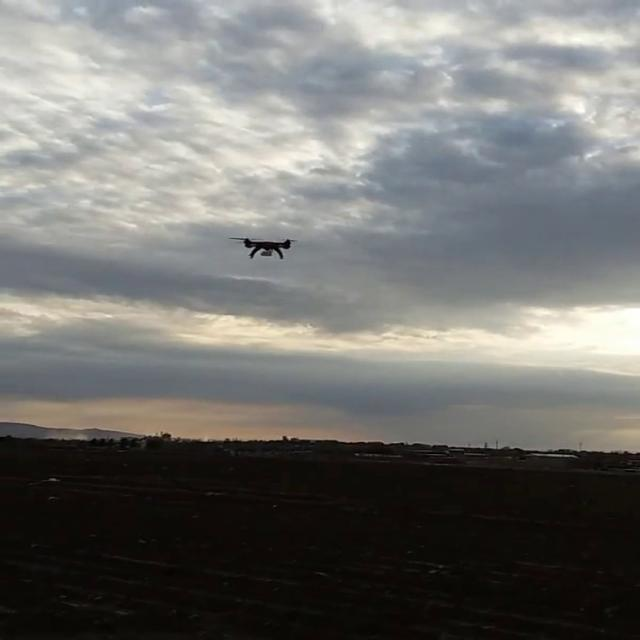drone: (227, 234, 301, 262)
